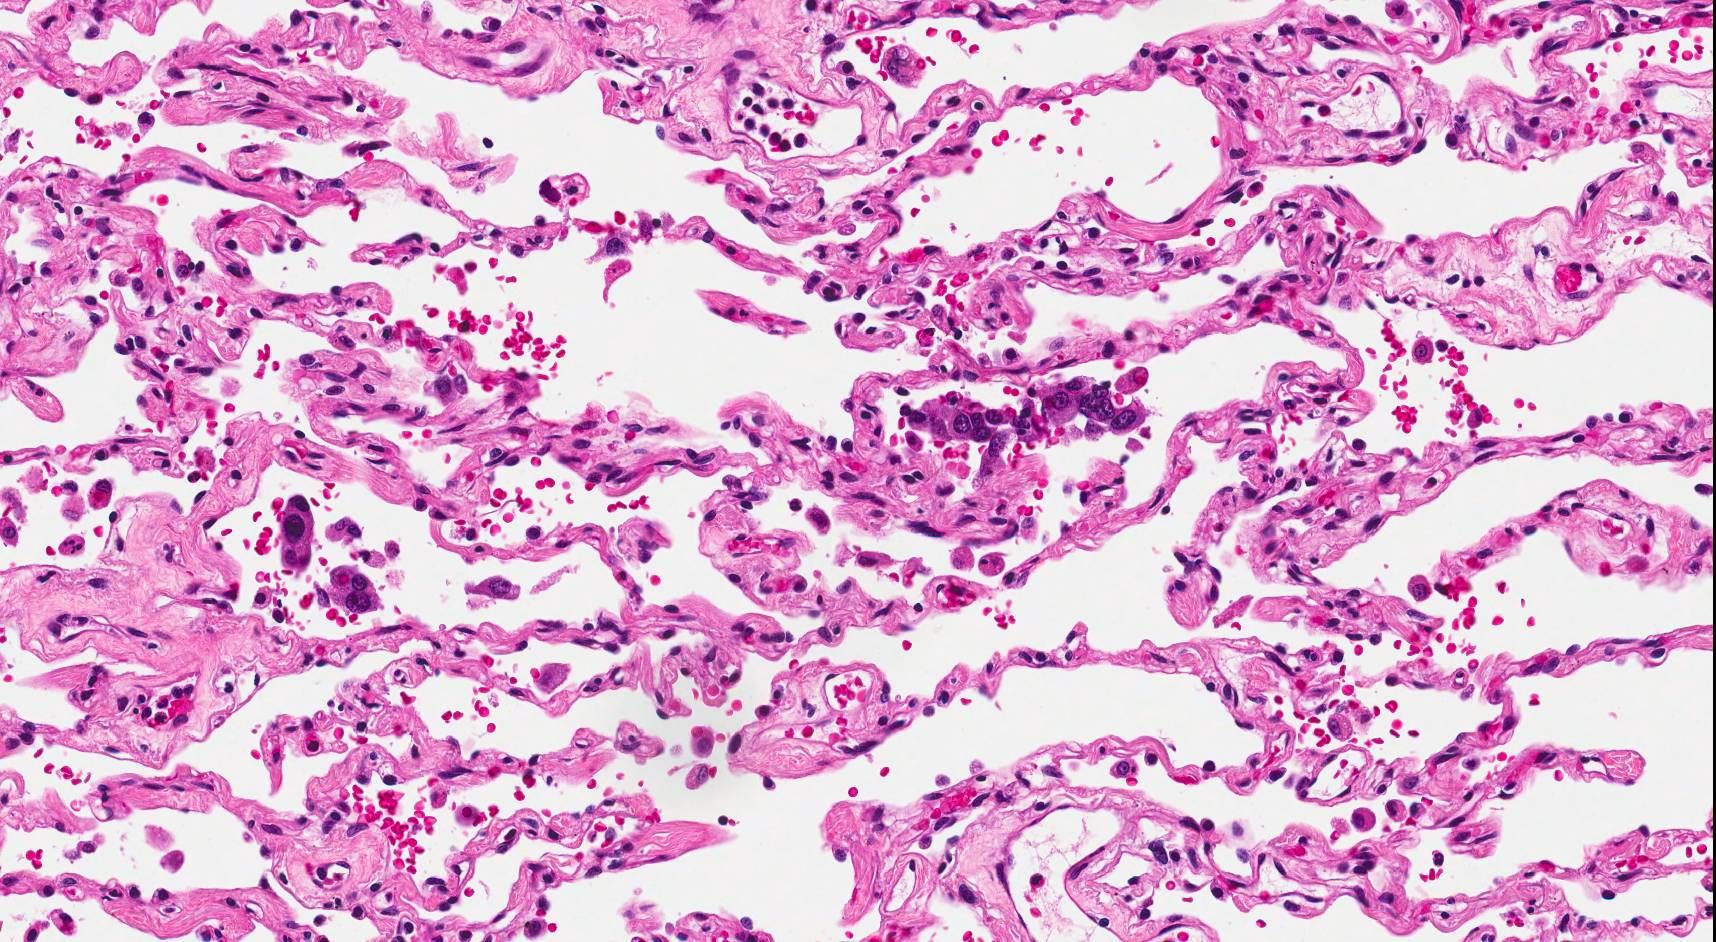stas: (894, 374, 1160, 447), (314, 570, 383, 616), (278, 493, 314, 571)
